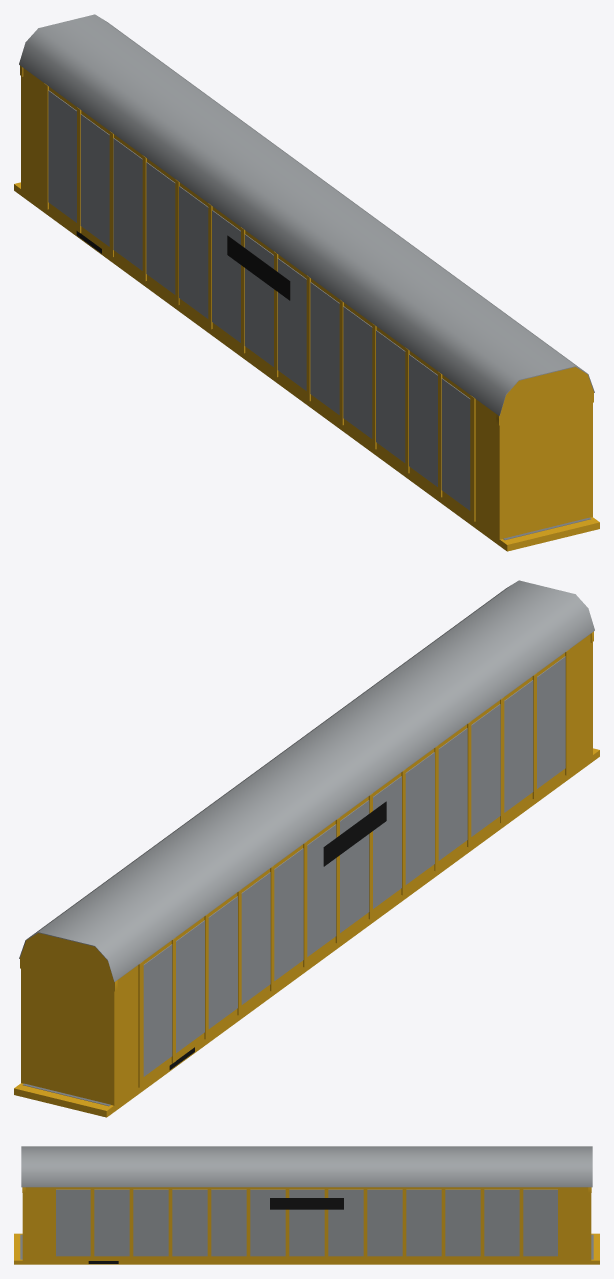
File: body_rwkz.glb
The picture shows the model from 3 angles, top to bottom: view 1: azimuth 30°, elevation 25°; view 2: azimuth 150°, elevation 25°; view 3: azimuth 270°, elevation 25°; orthographic projection. The views are drawn at different scales.
Visible parts, largest first — view 1: Roof, Screen, Rack, Frame, Plate; view 2: Roof, Screen, Rack, Frame, Plate; view 3: Screen, Roof, Rack, Frame, Plate.
Part boxes in pixels (x1,y1,x2,y2): Roof: (19,14,594,415); Screen: (48,90,470,510); Rack: (20,65,593,539); Frame: (14,182,599,551); Plate: (227,235,290,300); Roof: (19,580,594,981); Screen: (143,656,565,1076); Rack: (20,631,593,1105); Frame: (14,748,599,1117); Plate: (323,801,386,866); Screen: (56,1189,557,1256); Roof: (21,1146,592,1187); Rack: (22,1187,591,1260); Frame: (14,1233,599,1264); Plate: (270,1198,343,1209).
Bounding box in the file's own units: 3.1 × 5.37 × 27.43.
